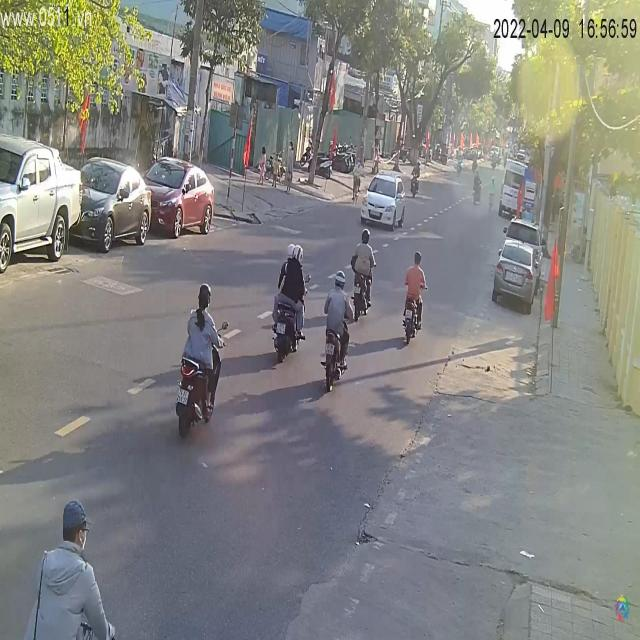car: (1, 134, 83, 276), (73, 158, 155, 253), (142, 156, 216, 240), (492, 220, 549, 316), (362, 175, 408, 229)
motorcycle: (174, 313, 226, 437), (268, 266, 308, 360), (321, 291, 355, 391), (399, 271, 427, 348)
